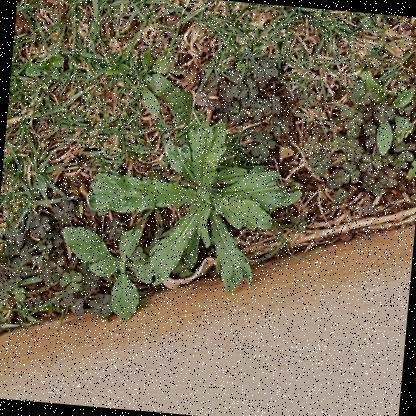Weeds: (76, 109, 306, 302), (54, 215, 163, 325), (353, 70, 415, 160), (98, 49, 172, 115), (25, 51, 70, 82)
